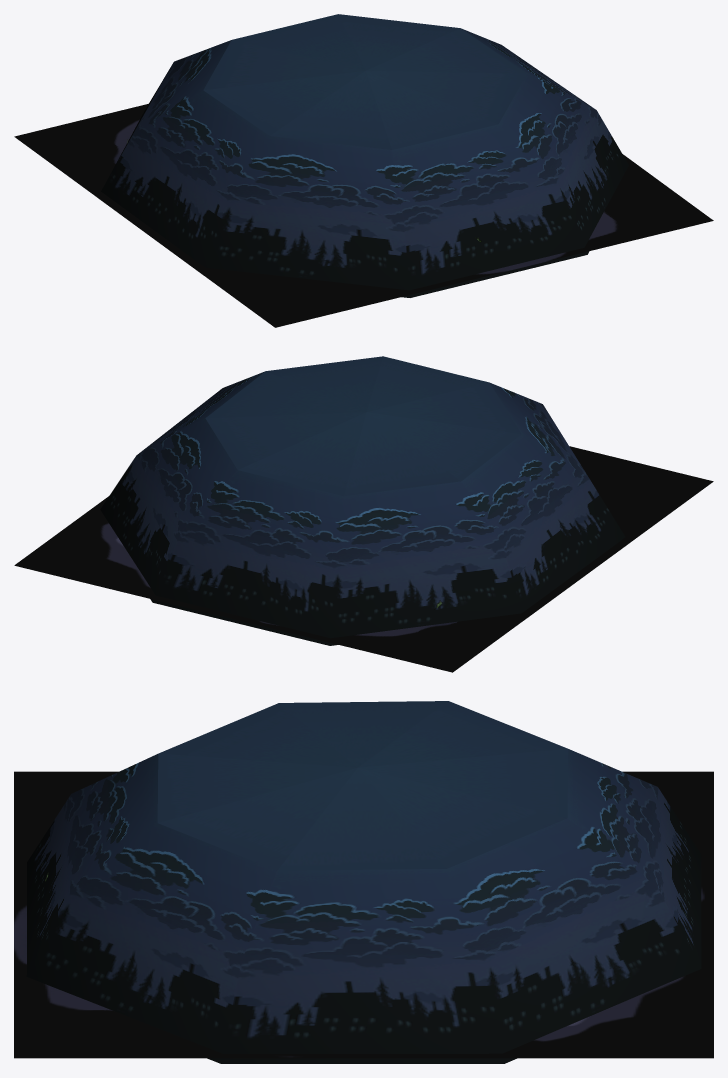
File: corpse.FBX
3 renders of one model, top to bottom at view 1: azimuth 30°, elevation 25°; view 2: azimuth 150°, elevation 25°; view 3: azimuth 270°, elevation 25°, orthographic. The views are drawn at different scales.
Parts seen in each view (by area): view 1: sky, land; view 2: sky, land; view 3: sky, land.
Part boxes in pixels (bbox=[...]): sky: bbox=[101, 14, 628, 297]; land: bbox=[14, 104, 713, 327]; sky: bbox=[100, 356, 625, 645]; land: bbox=[14, 446, 713, 672]; sky: bbox=[26, 701, 701, 1063]; land: bbox=[14, 771, 713, 1058].
Size of the model in its own units: 165 by 41.64 by 170.
